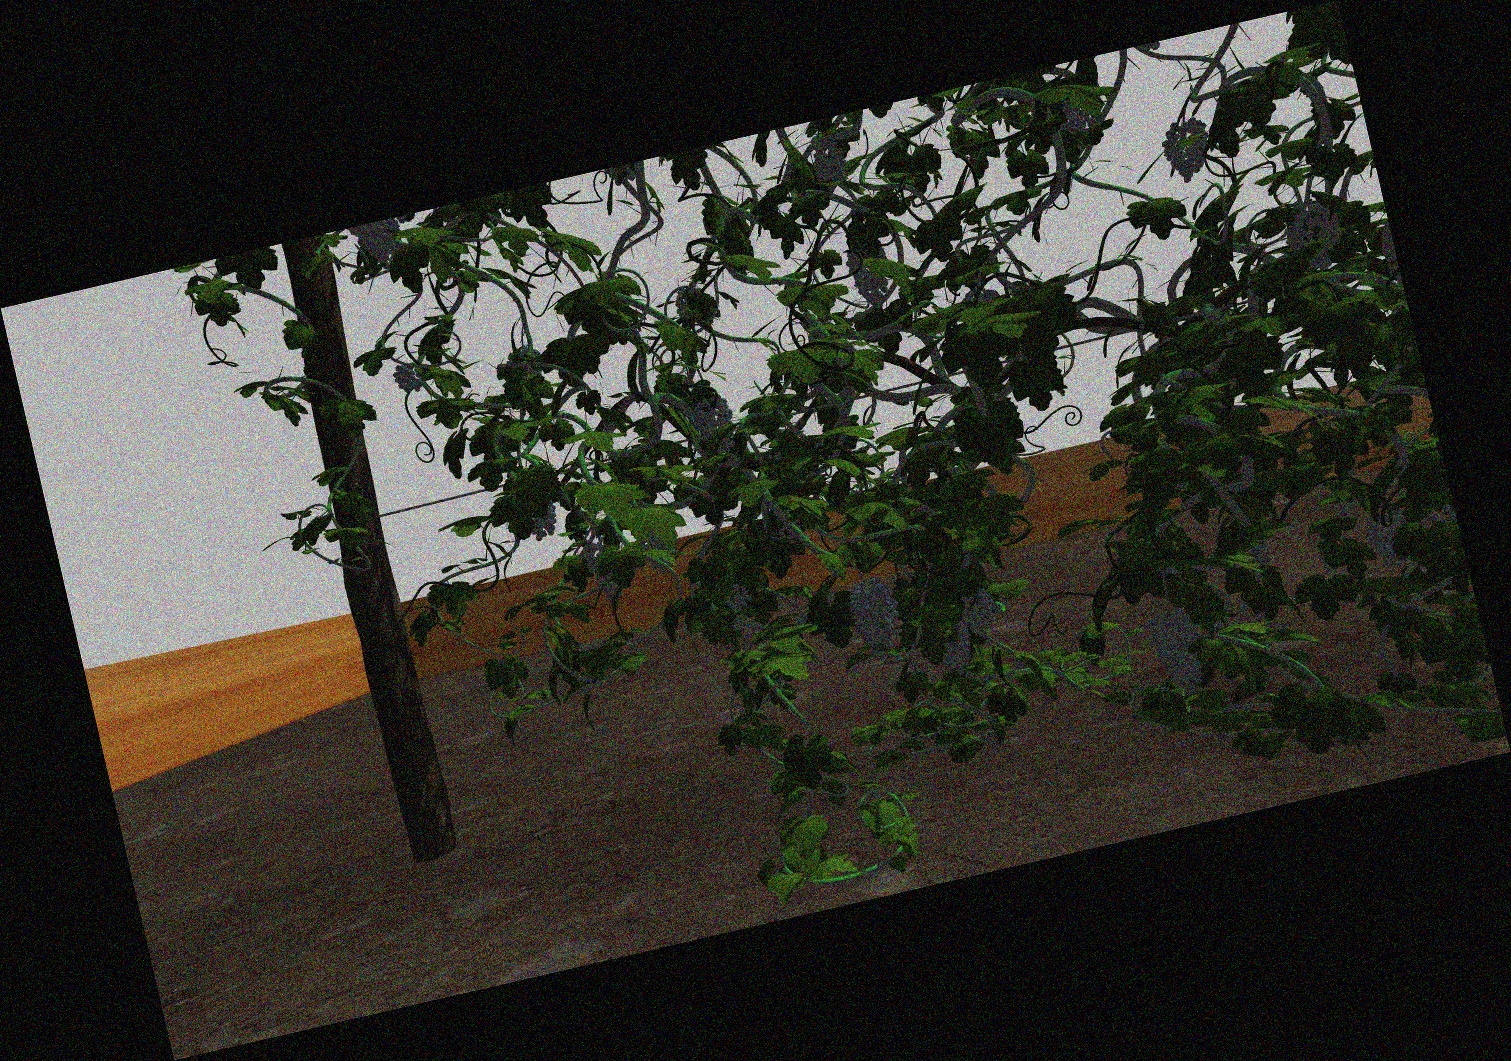grape: (1150, 611, 1206, 694), (851, 578, 900, 659), (1162, 122, 1215, 184), (690, 386, 736, 454), (1364, 508, 1413, 570), (1289, 210, 1340, 268), (850, 240, 889, 309), (933, 611, 974, 677), (958, 578, 995, 633), (352, 226, 400, 263), (809, 146, 849, 183), (394, 362, 421, 395)
